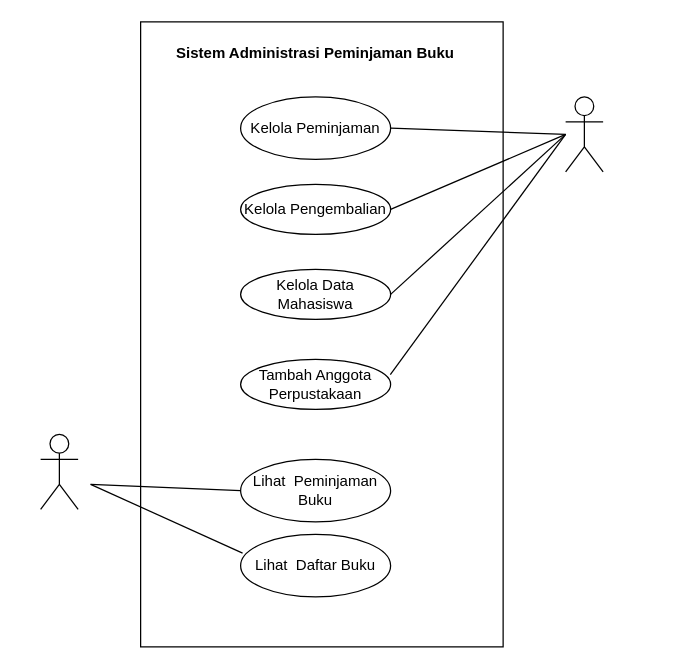
Some shapes in this 675 by 669 pixel diagram are drawn without their labels. The centre of each missing label's shape, as x and y in pixels:
Admin Perpustakaan: pixel 583 134
Mahasiswa: pixel 58 471
